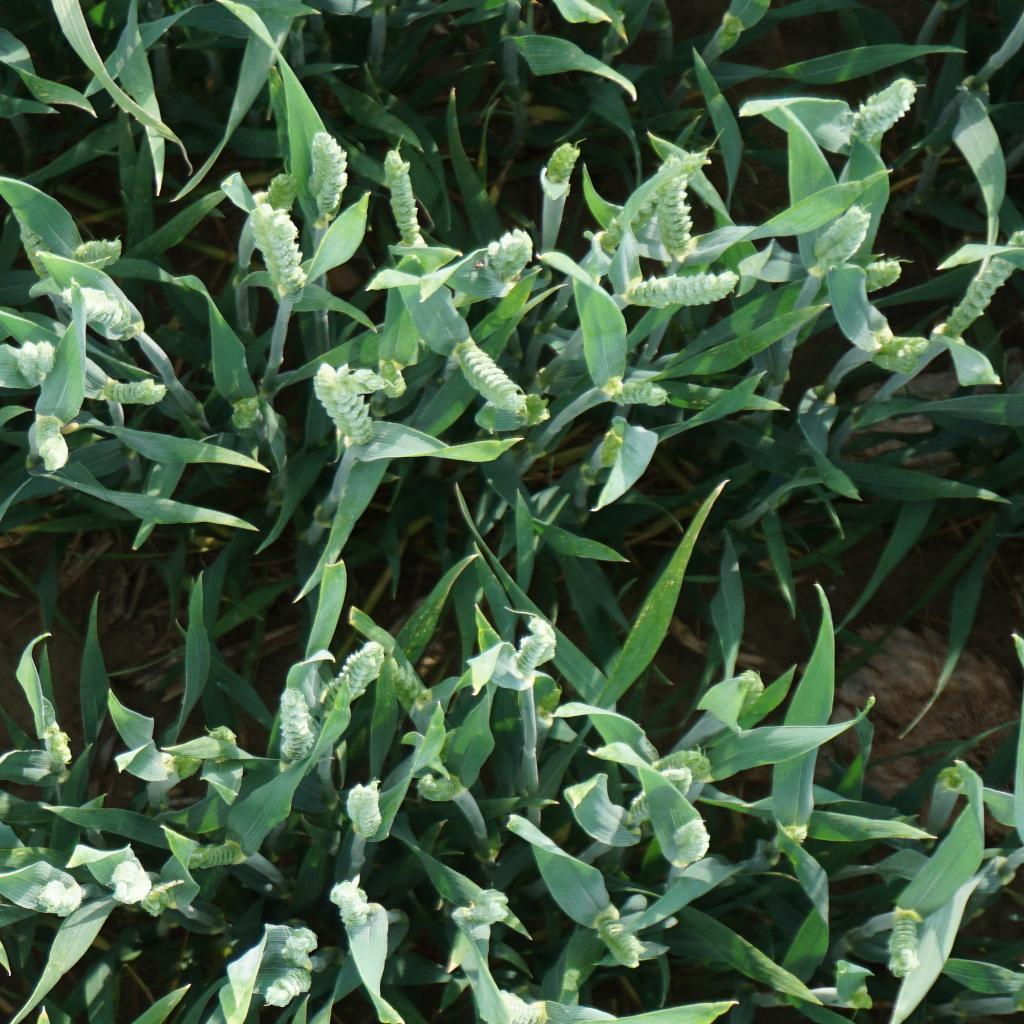0-0: (598, 147, 716, 252), (939, 225, 1024, 348), (295, 358, 397, 451), (248, 199, 309, 308), (445, 339, 527, 412), (852, 76, 927, 143), (623, 269, 745, 310), (322, 637, 386, 715), (811, 200, 881, 269), (378, 150, 424, 247), (654, 174, 704, 262), (626, 765, 699, 824), (364, 647, 424, 715), (270, 681, 317, 766), (589, 902, 646, 972), (308, 131, 349, 223), (506, 609, 561, 675), (336, 774, 389, 841), (883, 908, 926, 982), (54, 284, 126, 327), (483, 229, 539, 284), (866, 332, 934, 376), (99, 854, 153, 908), (13, 208, 52, 280), (262, 960, 317, 1010), (478, 983, 545, 1024), (325, 874, 372, 931), (669, 810, 714, 869), (649, 748, 717, 785), (28, 415, 70, 474), (543, 135, 588, 189), (15, 335, 57, 389), (176, 842, 250, 871), (30, 880, 85, 919), (71, 229, 124, 269), (101, 376, 169, 407), (604, 380, 673, 410), (858, 257, 914, 293), (138, 879, 188, 919), (414, 769, 470, 804), (260, 171, 301, 217), (463, 888, 515, 924), (172, 733, 210, 779), (373, 357, 412, 397), (735, 669, 768, 715), (200, 725, 242, 761), (228, 391, 264, 432), (280, 928, 317, 966), (599, 430, 632, 468), (48, 726, 73, 767)
